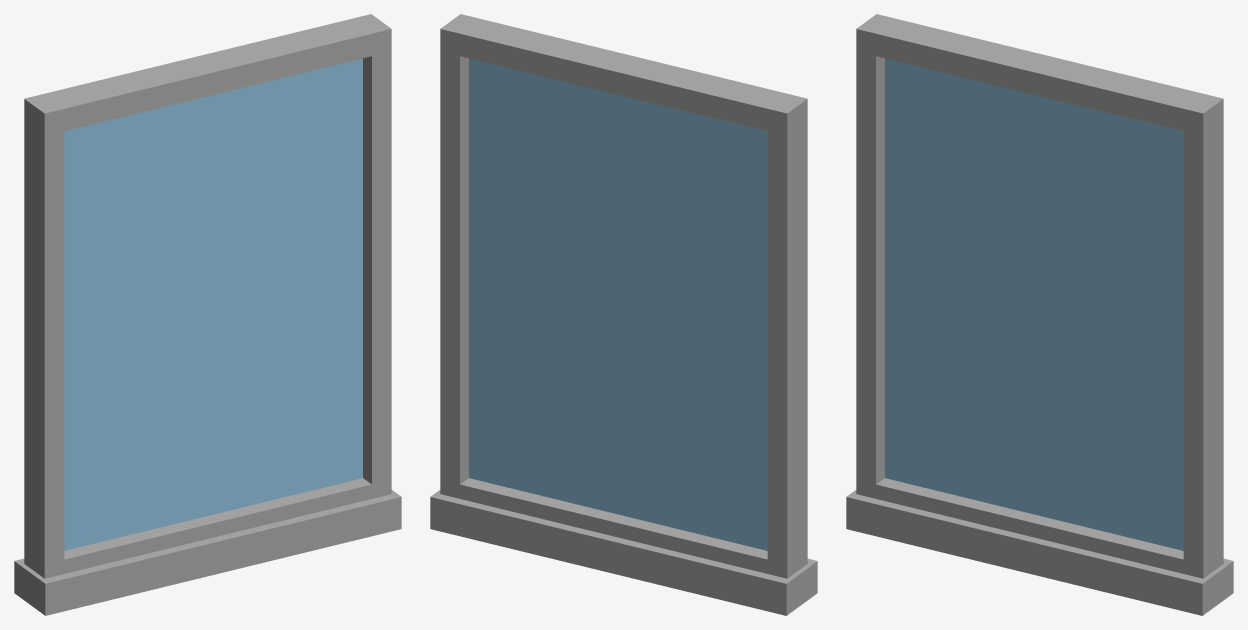
Rendered from Window_Small3.glb.
3 renders of one model, left to right at view 1: azimuth 30°, elevation 25°; view 2: azimuth 150°, elevation 25°; view 3: azimuth 330°, elevation 25°, orthographic.
Parts seen in each view (by area): view 1: Window_Small3; view 2: Window_Small3; view 3: Window_Small3.
Boxes of the visible parts, x1=… form: Window_Small3: x1=14, y1=14, x2=401, y2=615; Window_Small3: x1=430, y1=14, x2=817, y2=615; Window_Small3: x1=846, y1=14, x2=1233, y2=615.
Bounding box in the file's own units: 0.9282 × 1.24 × 0.1411.
